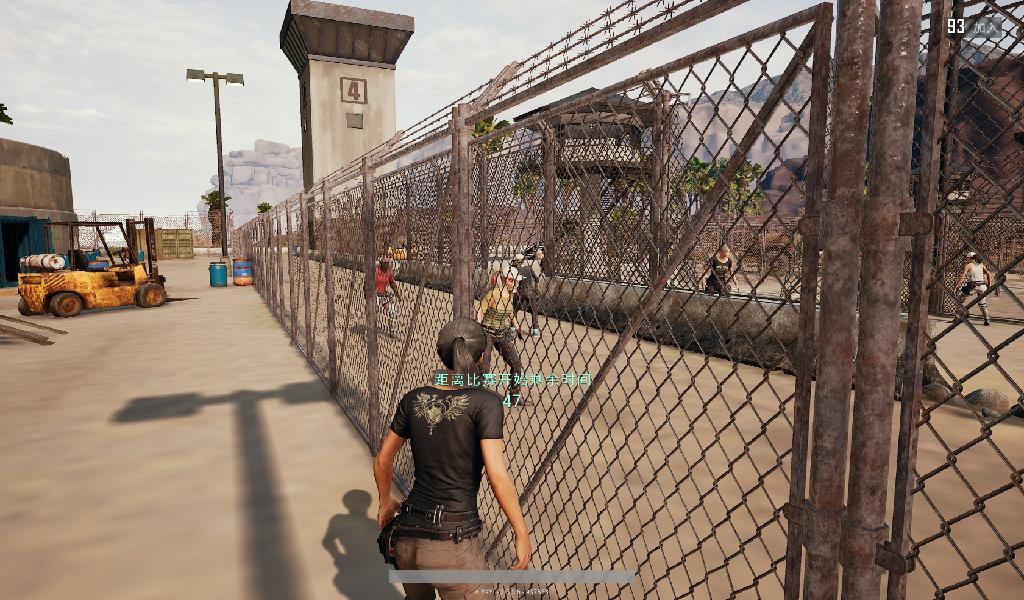Target Person: (375, 317, 531, 600), (465, 267, 533, 409), (365, 253, 403, 343), (952, 251, 992, 328), (706, 244, 736, 332)
